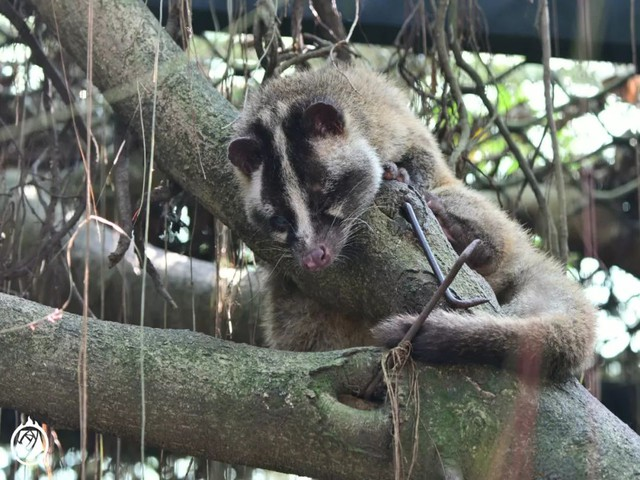civet: (224, 63, 601, 375)
